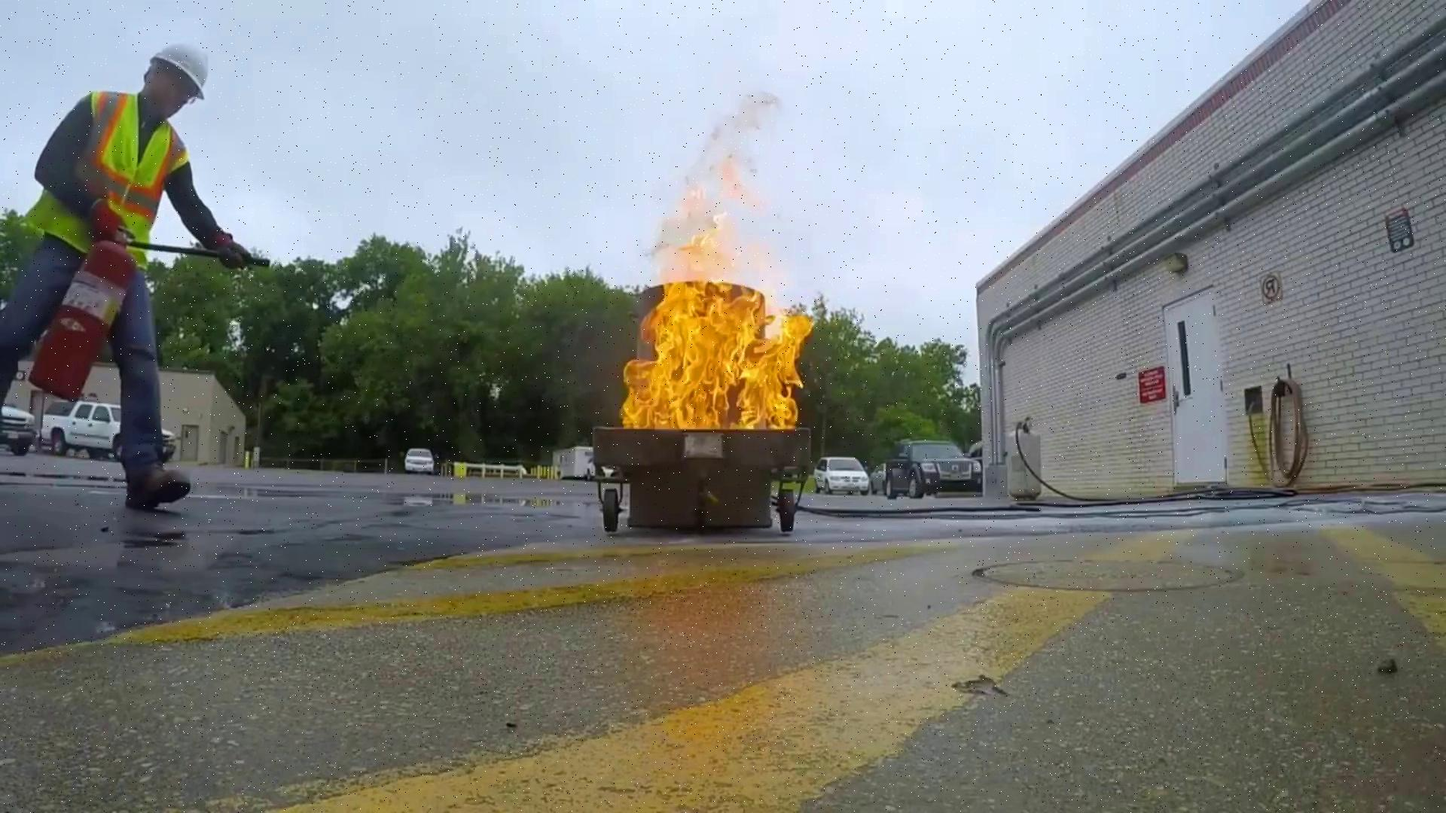Hard_hat: (142, 50, 215, 87)
Vest: (27, 88, 180, 253)
